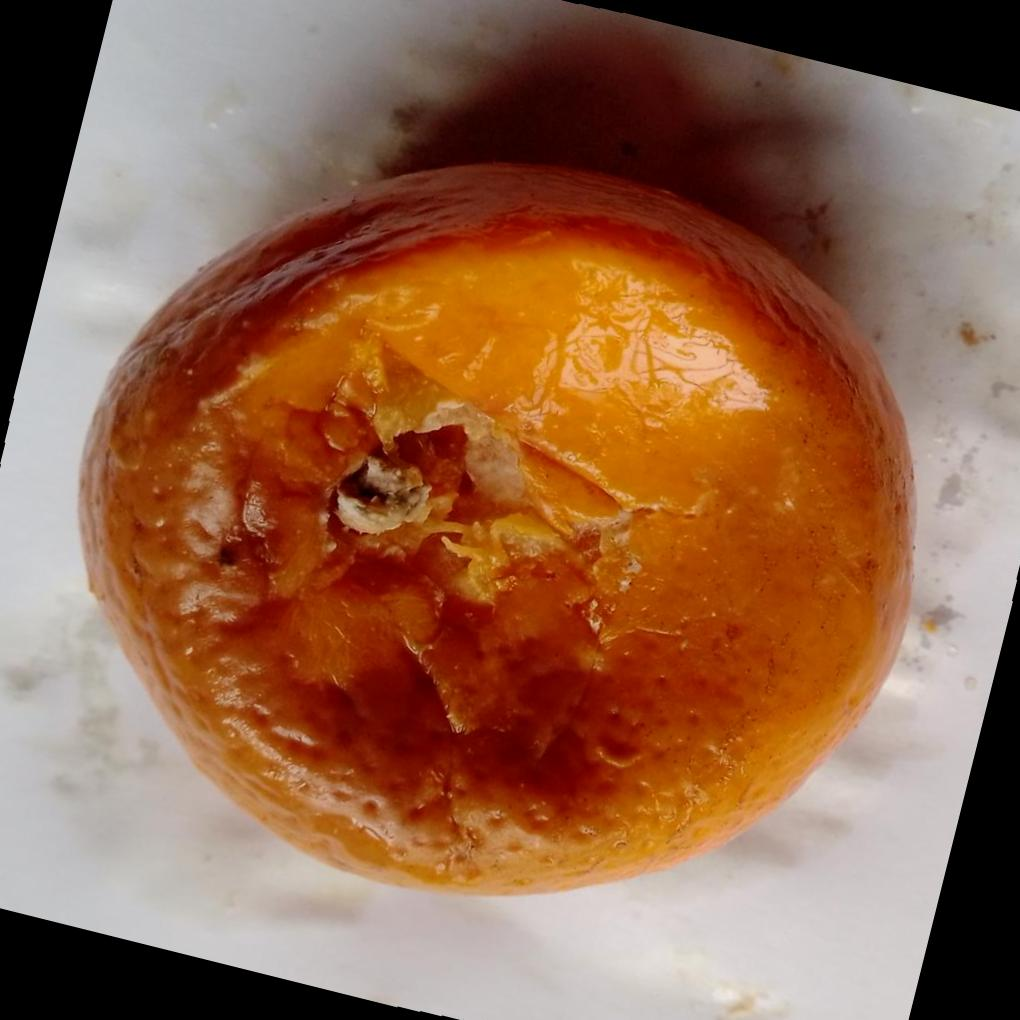FreshOrange: (74, 159, 913, 897)
